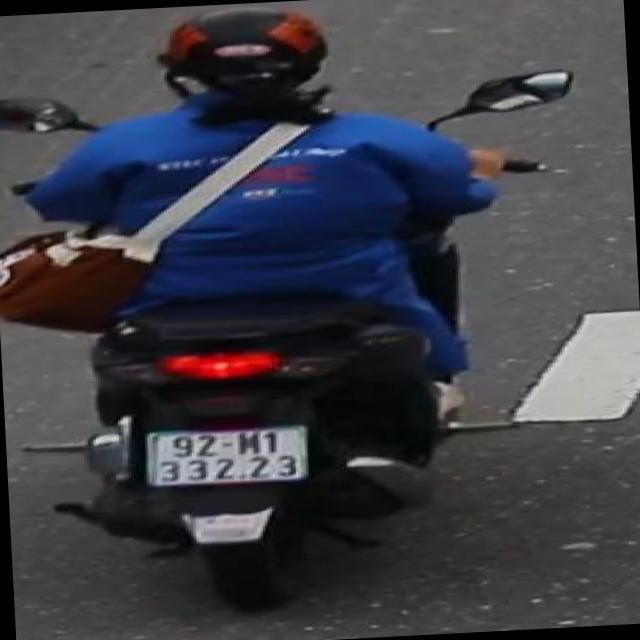LP: (138, 421, 319, 503)
helmet: (158, 1, 340, 106)
